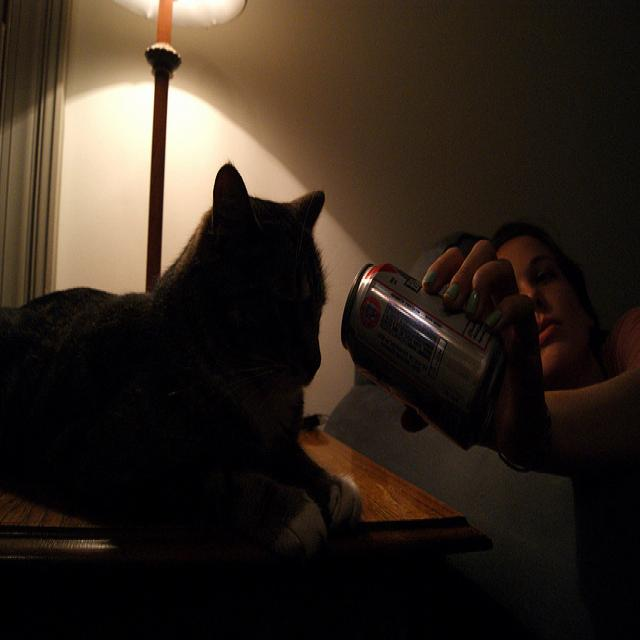Bottle: (340, 242, 504, 446)
Cat: (0, 178, 336, 555)
People: (442, 165, 640, 640)
Table: (0, 422, 466, 640)
